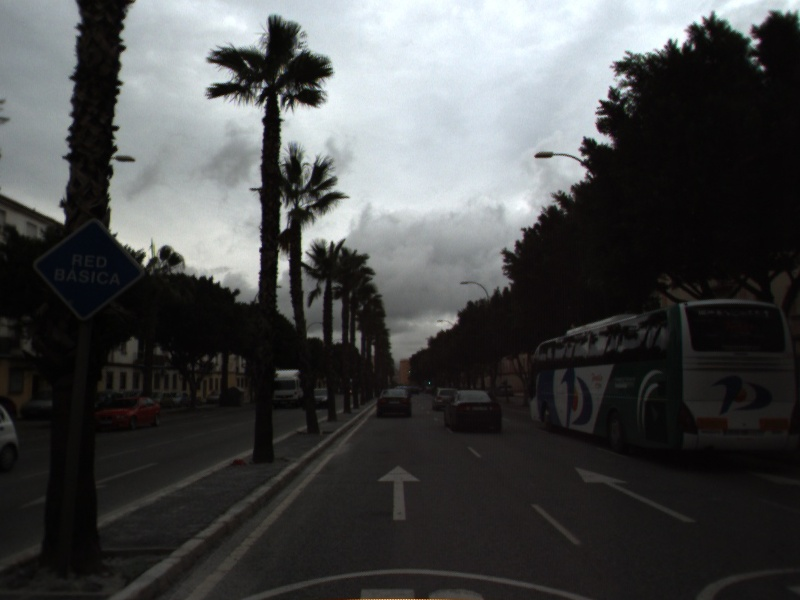STRAIGHT: (573, 464, 699, 525), (375, 463, 423, 522)
